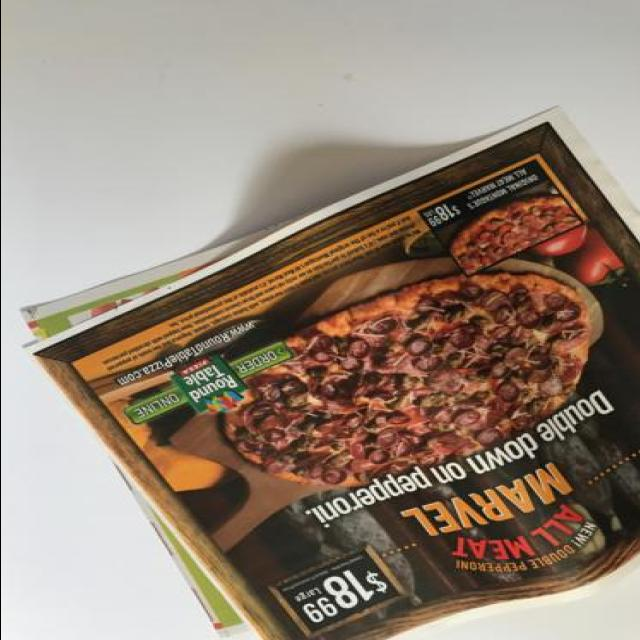kertas: (17, 104, 640, 640)
